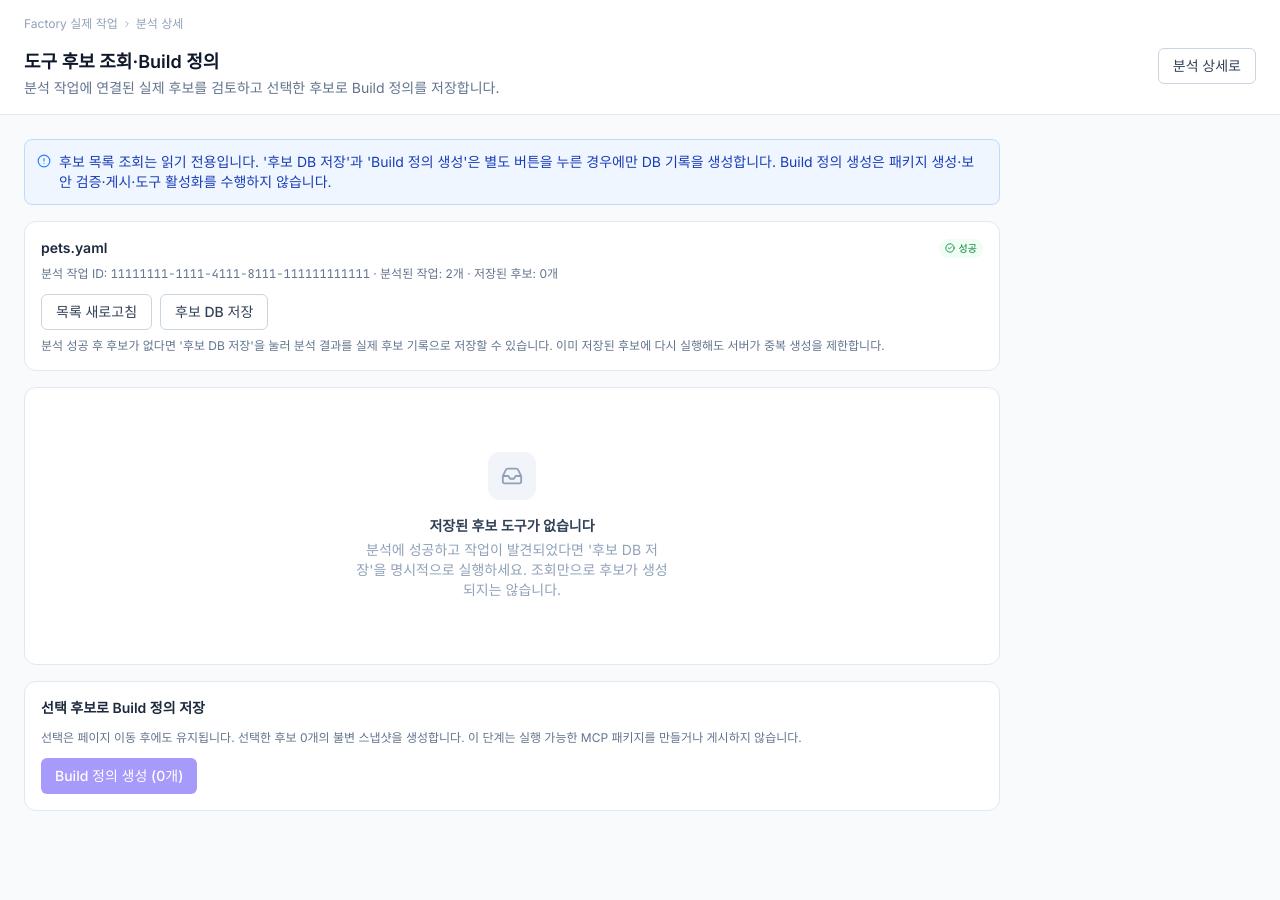
Test: Factory candidate review and Build snapshot › requires a deliberate materialize click on successful analyses and refreshes persisted results
expect the heading "저장된 후보 도구가 없습니다" is shown: met, box x1=429 y1=516 x2=595 y2=536
Click the button "후보 DB 저장": click(214, 312) x1=160 y1=294 x2=268 y2=330
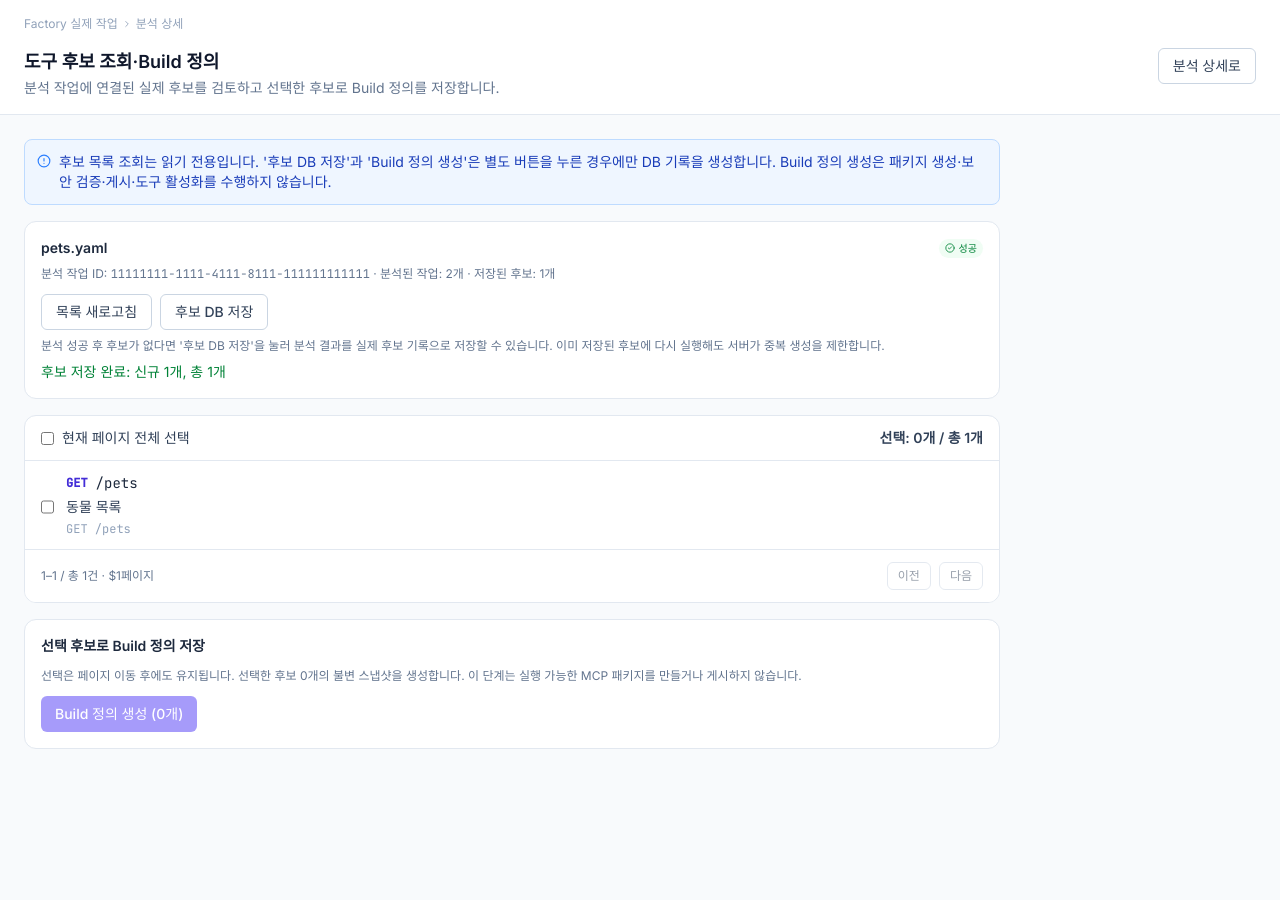
expect the text "동물 목록" is shown: met, box x1=66 y1=498 x2=122 y2=515
expect the message shows "신규 1개, 총 1개": met, box x1=41 y1=363 x2=226 y2=380
